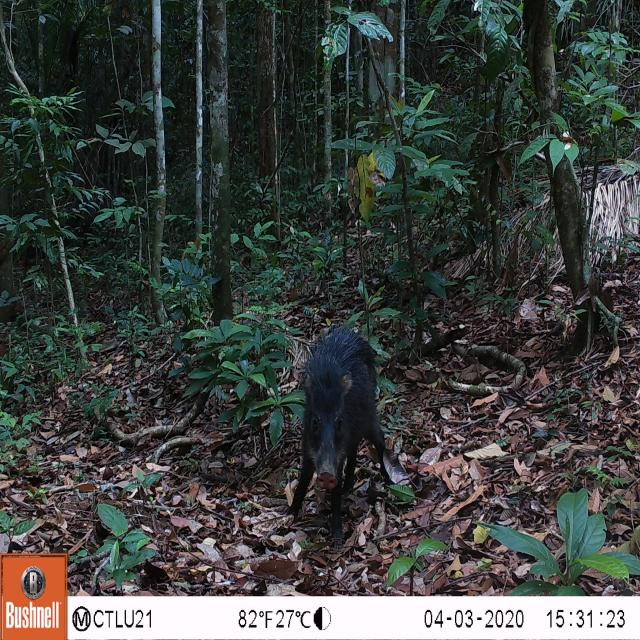White-lipped Peccary: (290, 324, 399, 543)
